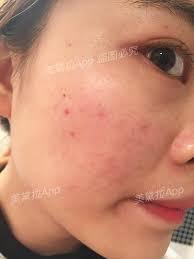fore: (135, 118, 154, 135), (94, 104, 106, 124), (58, 109, 75, 119)
